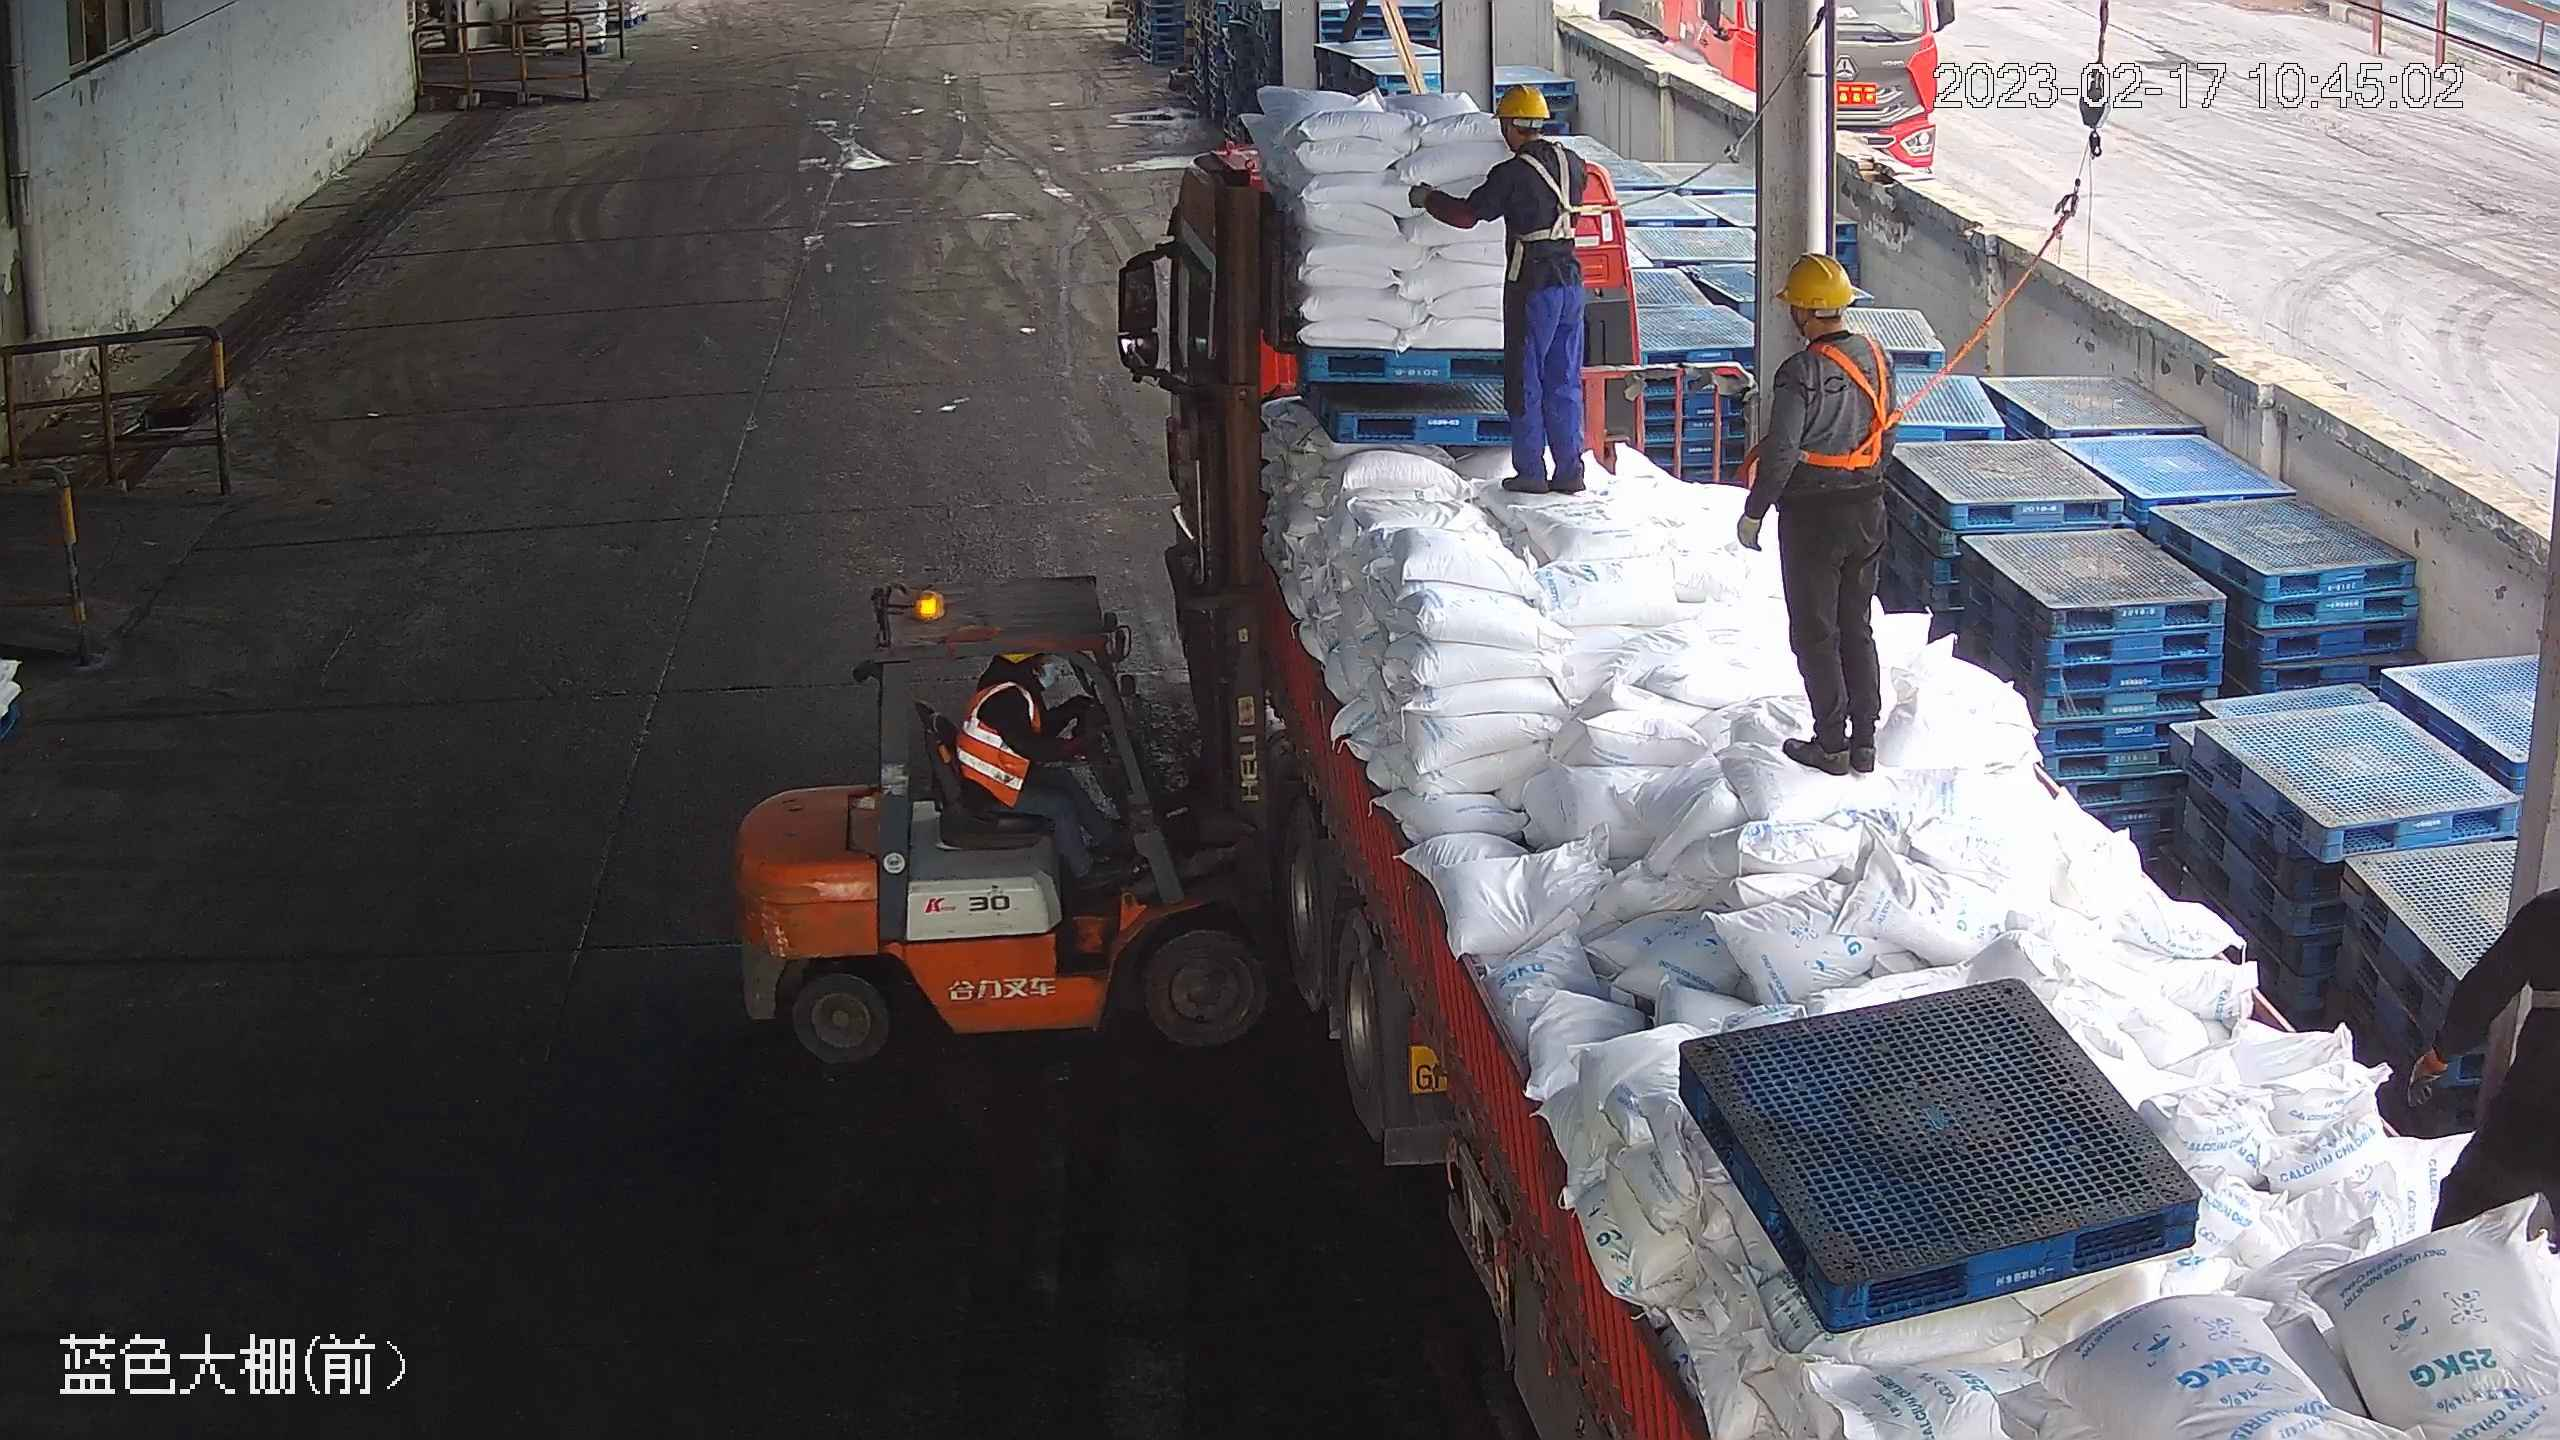belt: (1801, 342, 1912, 481), (1505, 142, 1605, 250)
head: (1757, 257, 1896, 398), (1481, 83, 1588, 223)
helmet: (1773, 256, 1857, 313), (1490, 86, 1551, 125)
people: (1730, 254, 1896, 779), (1408, 78, 1593, 500), (940, 645, 1130, 900)
truck: (1108, 145, 2560, 1440)
